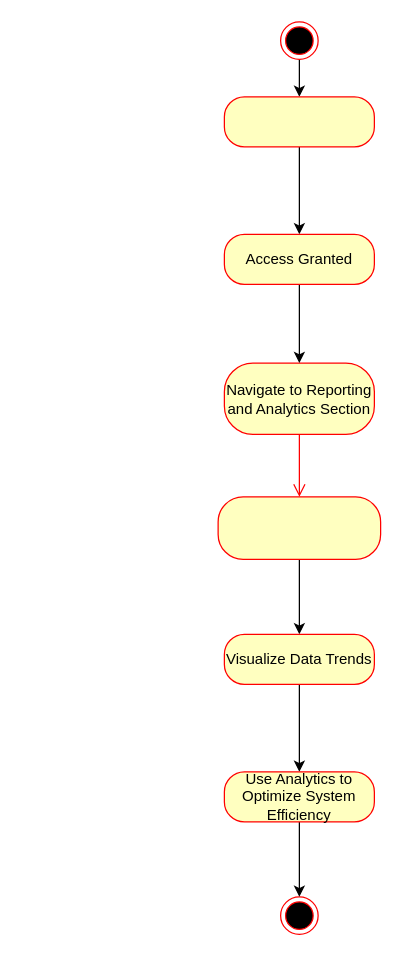
This 403x966 diagram has some shape labels left out. Here are the shapes that lost their labels. From the top down, the centre of each, then its label:
At [298,121]: "Admin Logs In".
At [299,527]: "Generate Custom Reports".
